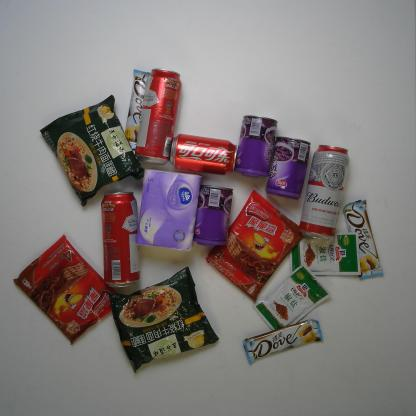Alcohol: (299, 144, 350, 241), (135, 68, 182, 165), (101, 190, 141, 288)
Canned Food: (265, 136, 311, 201), (234, 115, 278, 179), (193, 184, 234, 247)
Chocolate: (242, 319, 325, 364), (342, 198, 384, 282), (124, 69, 154, 150)
Dessert: (12, 235, 120, 346), (206, 188, 304, 303)
Drink: (170, 133, 238, 176)
Instant Noodles: (38, 94, 146, 206), (108, 266, 220, 374)
Seasoner: (253, 264, 332, 333), (290, 231, 362, 276)
Tissue: (136, 169, 202, 251)
